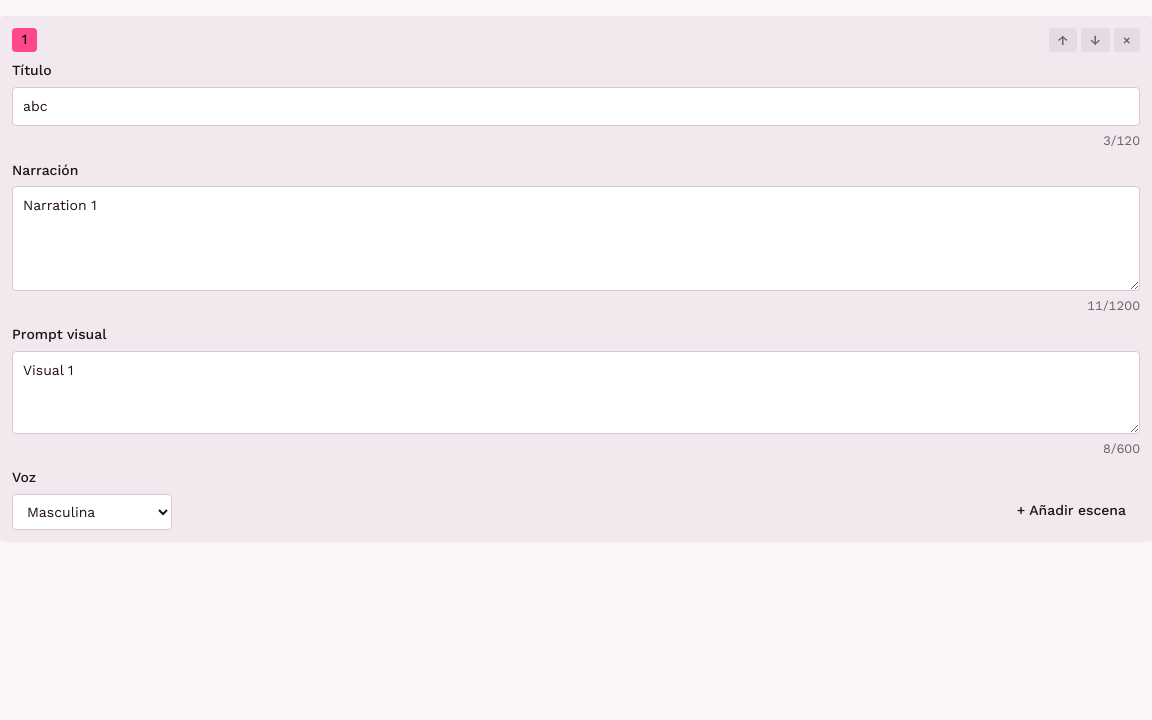
Test: SegmentEditor › shows live character counters against the caps
Expected: the text "3/120" is shown, [1103,131,1140,152]
Expected: the text "11/1200" is shown, [1087,296,1140,316]
Type "de" into the field labelled "Título" at x=576, y=107, box [12,87,1140,126]
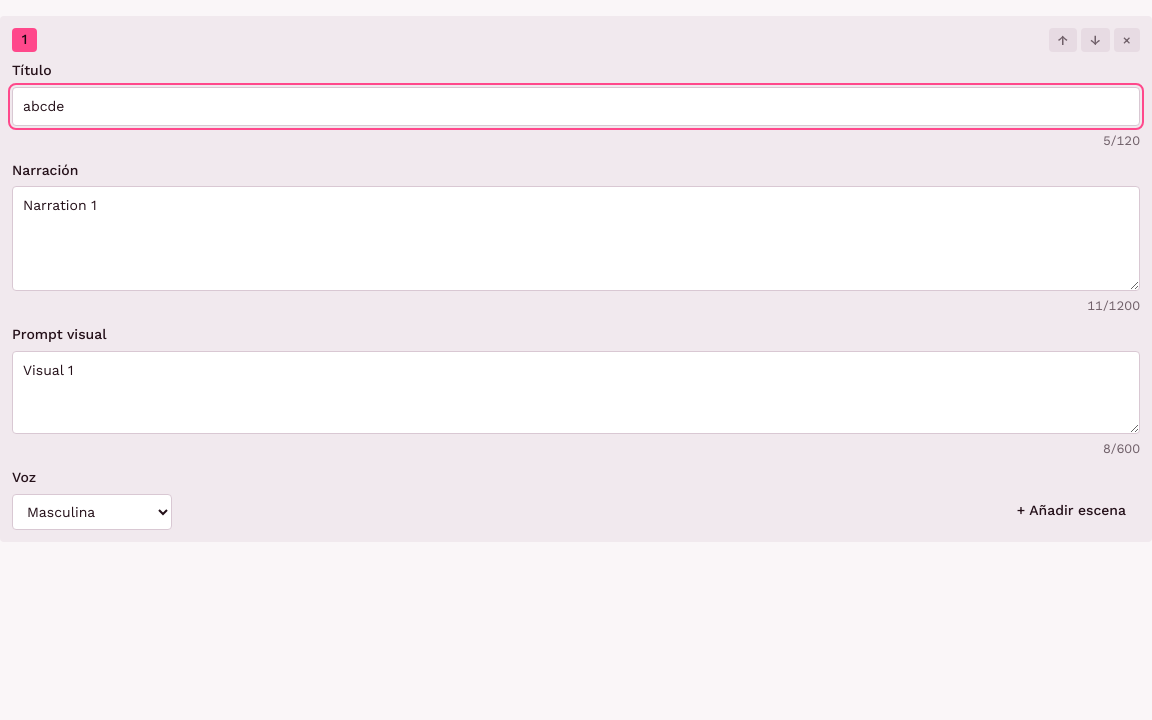
Expected: the text "5/120" is shown, [1103,131,1140,152]
